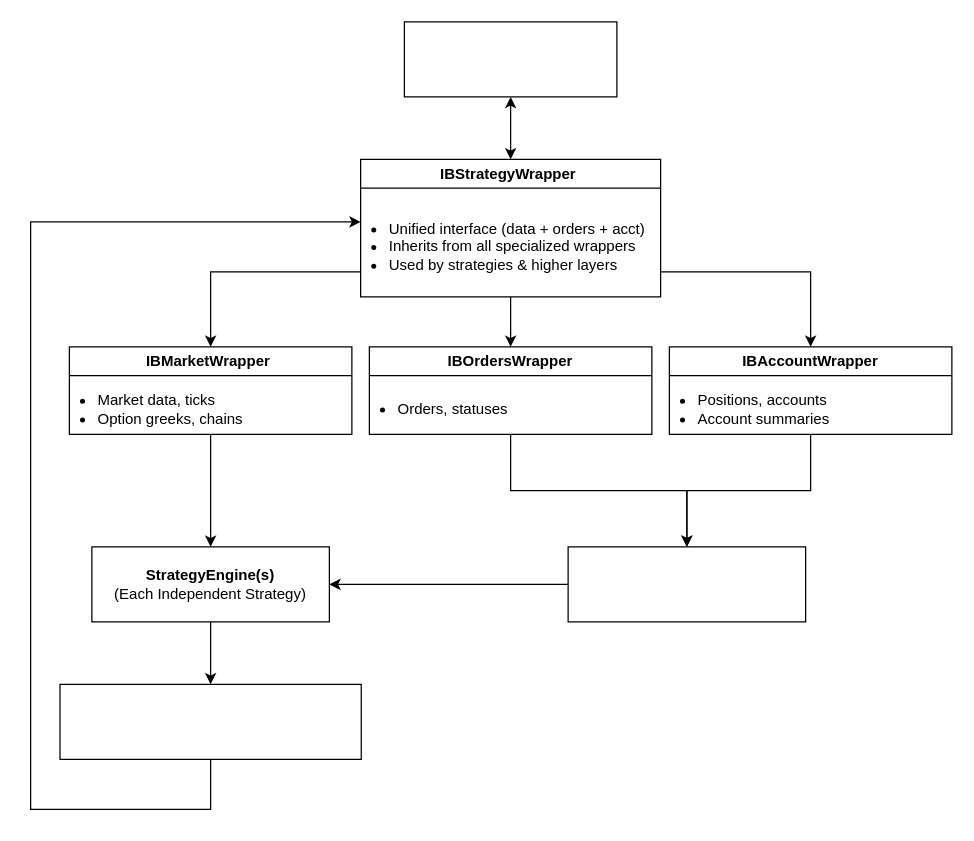
Some shapes in this 974 by 841 pixel diagram are drawn without their labels. The shapes that lost their labels are listed below. From the top down, each one's centre as x and y in pixels, then its label:
At pixel 510 59: "Interactive Brokers (TWS / IB Gateway)".
At pixel 686 584: "PositionManager (Track positions and open orders)".
At pixel 210 721: "OrderExecutor (Send orders to IB using Strategy Wrapper)".
